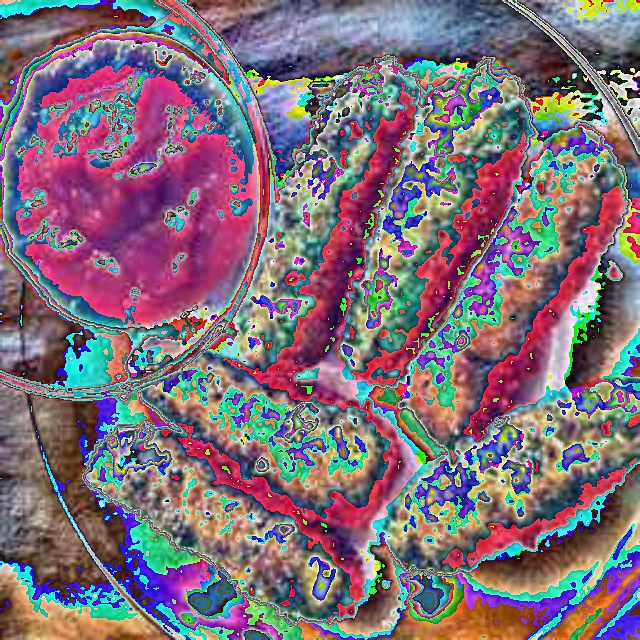background: (80, 55, 639, 624), (0, 28, 260, 334)
